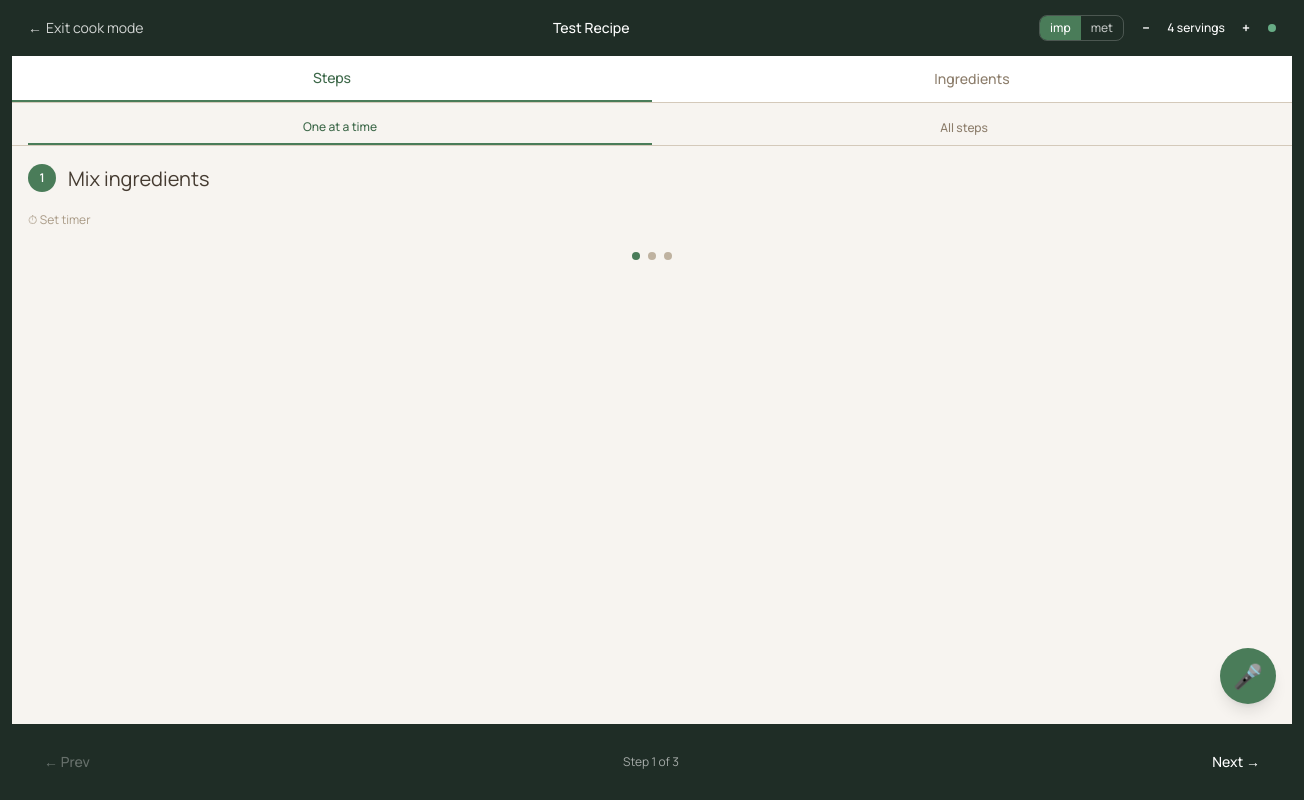
Test: T08 - Toggle to scroll shows all steps › switching to All steps shows all step texts
Click the button "All steps" at (964, 128), box [652,111,1276,145]
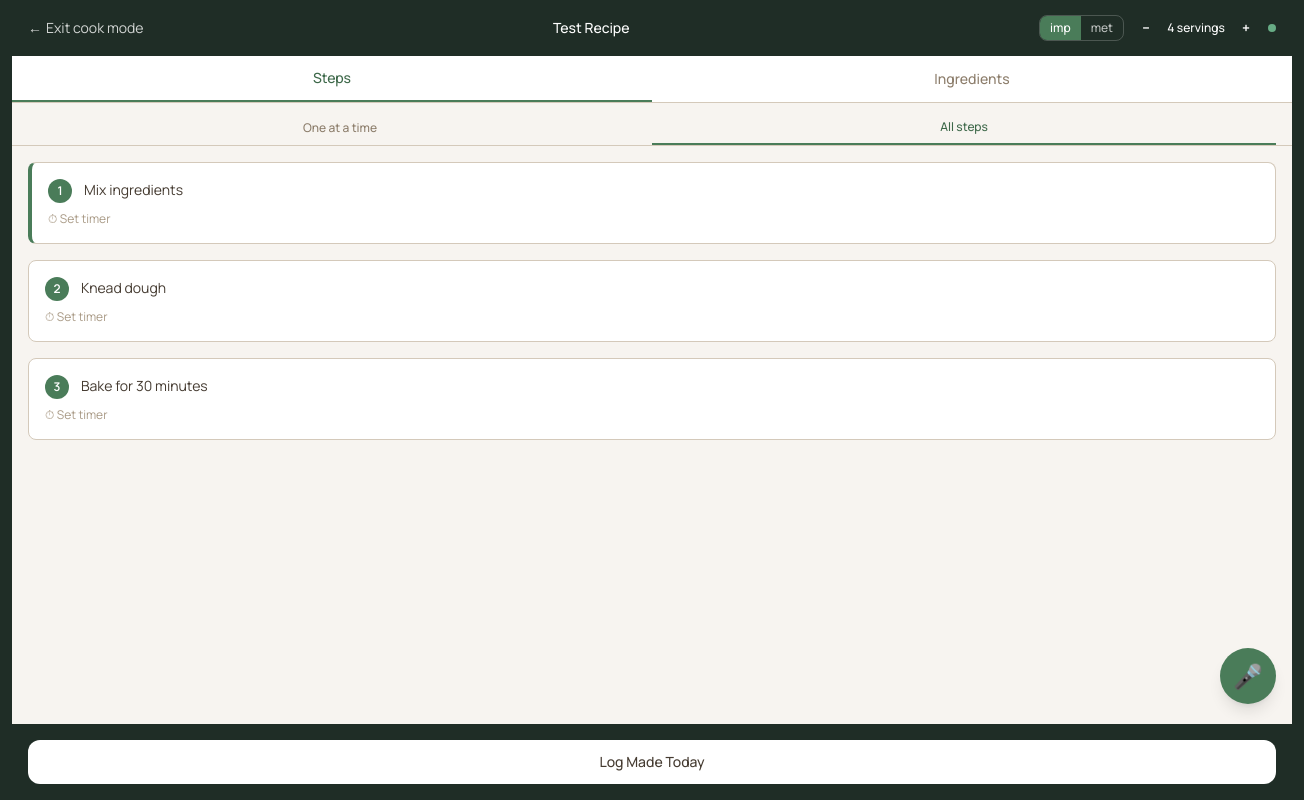
Expected: the text "Mix ingredients" is shown, [84,179,183,202]
Now the text "Knead dough" is shown, box [81,277,166,300]
Now the text "Bake for 30 minutes" is shown, box [81,375,208,398]
